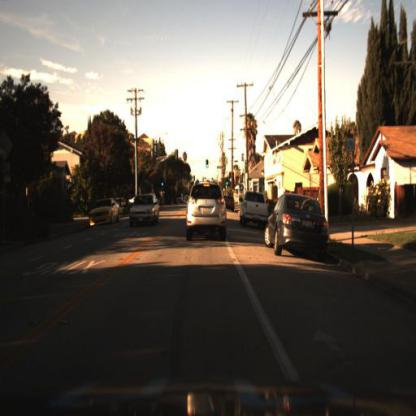car: (263, 190, 335, 265), (179, 173, 232, 248), (127, 190, 163, 234), (87, 195, 122, 234), (238, 188, 269, 229), (224, 191, 237, 221), (175, 191, 185, 209)
trafficLight-Green: (203, 162, 211, 175), (224, 178, 232, 189), (160, 179, 166, 193), (159, 180, 165, 193), (228, 174, 234, 186), (206, 158, 211, 171), (227, 177, 232, 190), (230, 176, 234, 186)
